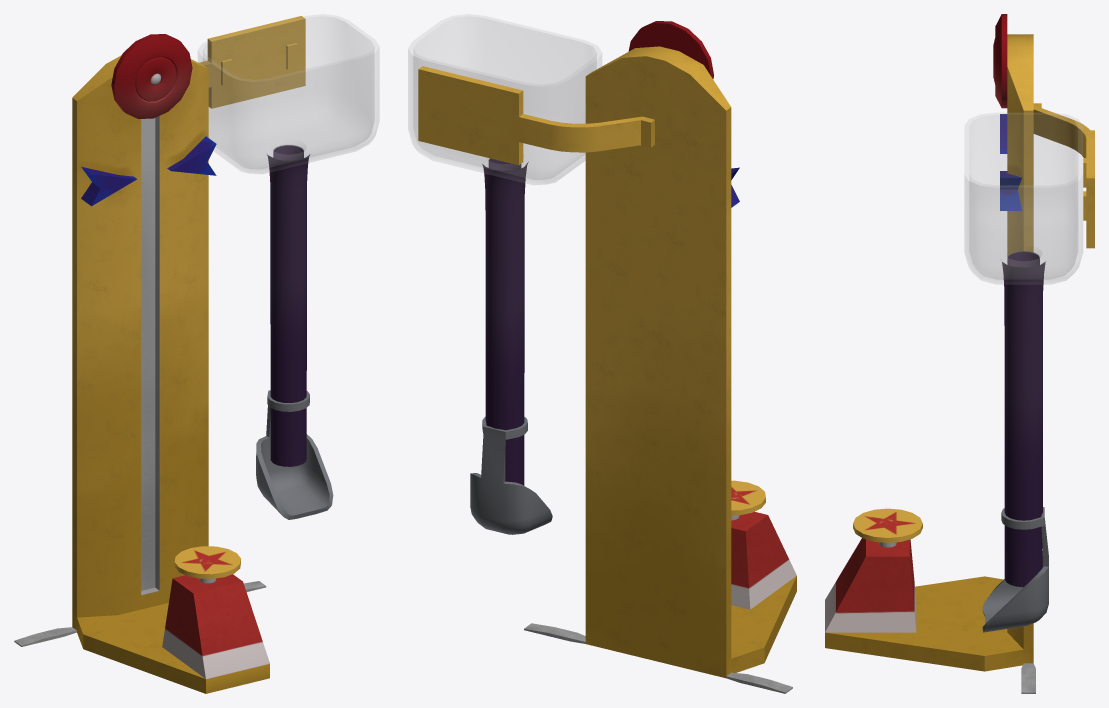
File: strength.glb
3 renders of one model, left to right at view 1: azimuth 30°, elevation 25°; view 2: azimuth 150°, elevation 25°; view 3: azimuth 270°, elevation 25°, orthographic. The views are drawn at different scales.
Visible parts, largest first — view 1: Cylinder.001; view 2: Cylinder.001; view 3: Cylinder.001.
Boxes of the visible parts, <box> form: Cylinder.001: <box>14,14,378,693</box>; Cylinder.001: <box>408,14,796,693</box>; Cylinder.001: <box>825,14,1094,693</box>.
Size of the model in its own units: 159 by 262 by 104.
1 material, 1 textured.
